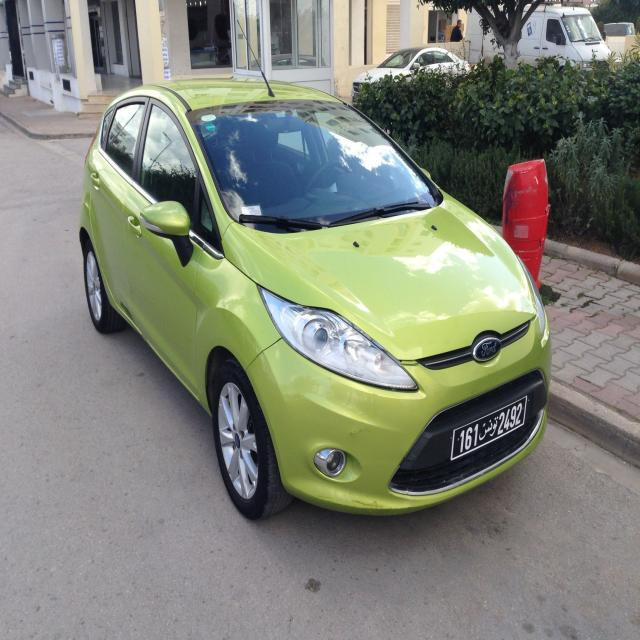LP: (449, 395, 525, 461)
